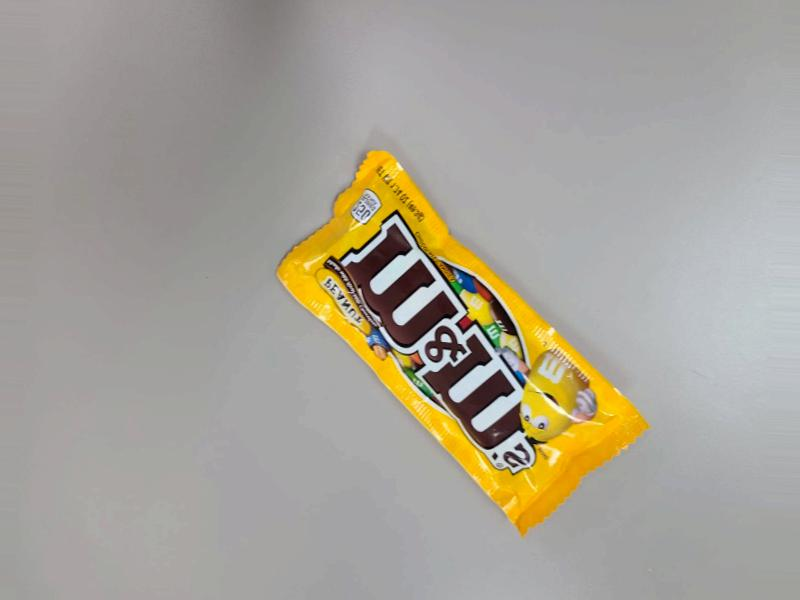m&m: (283, 129, 656, 543)
